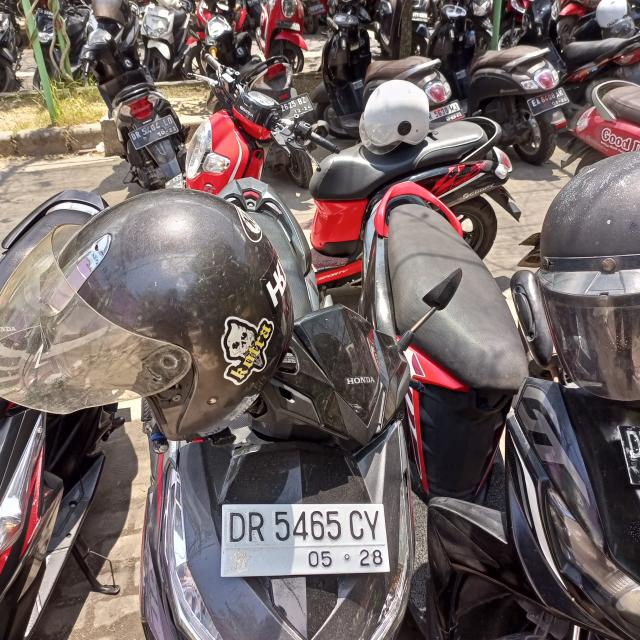plate: (220, 496, 390, 580), (129, 113, 179, 150), (526, 87, 571, 116), (279, 93, 313, 121), (428, 99, 465, 122)
